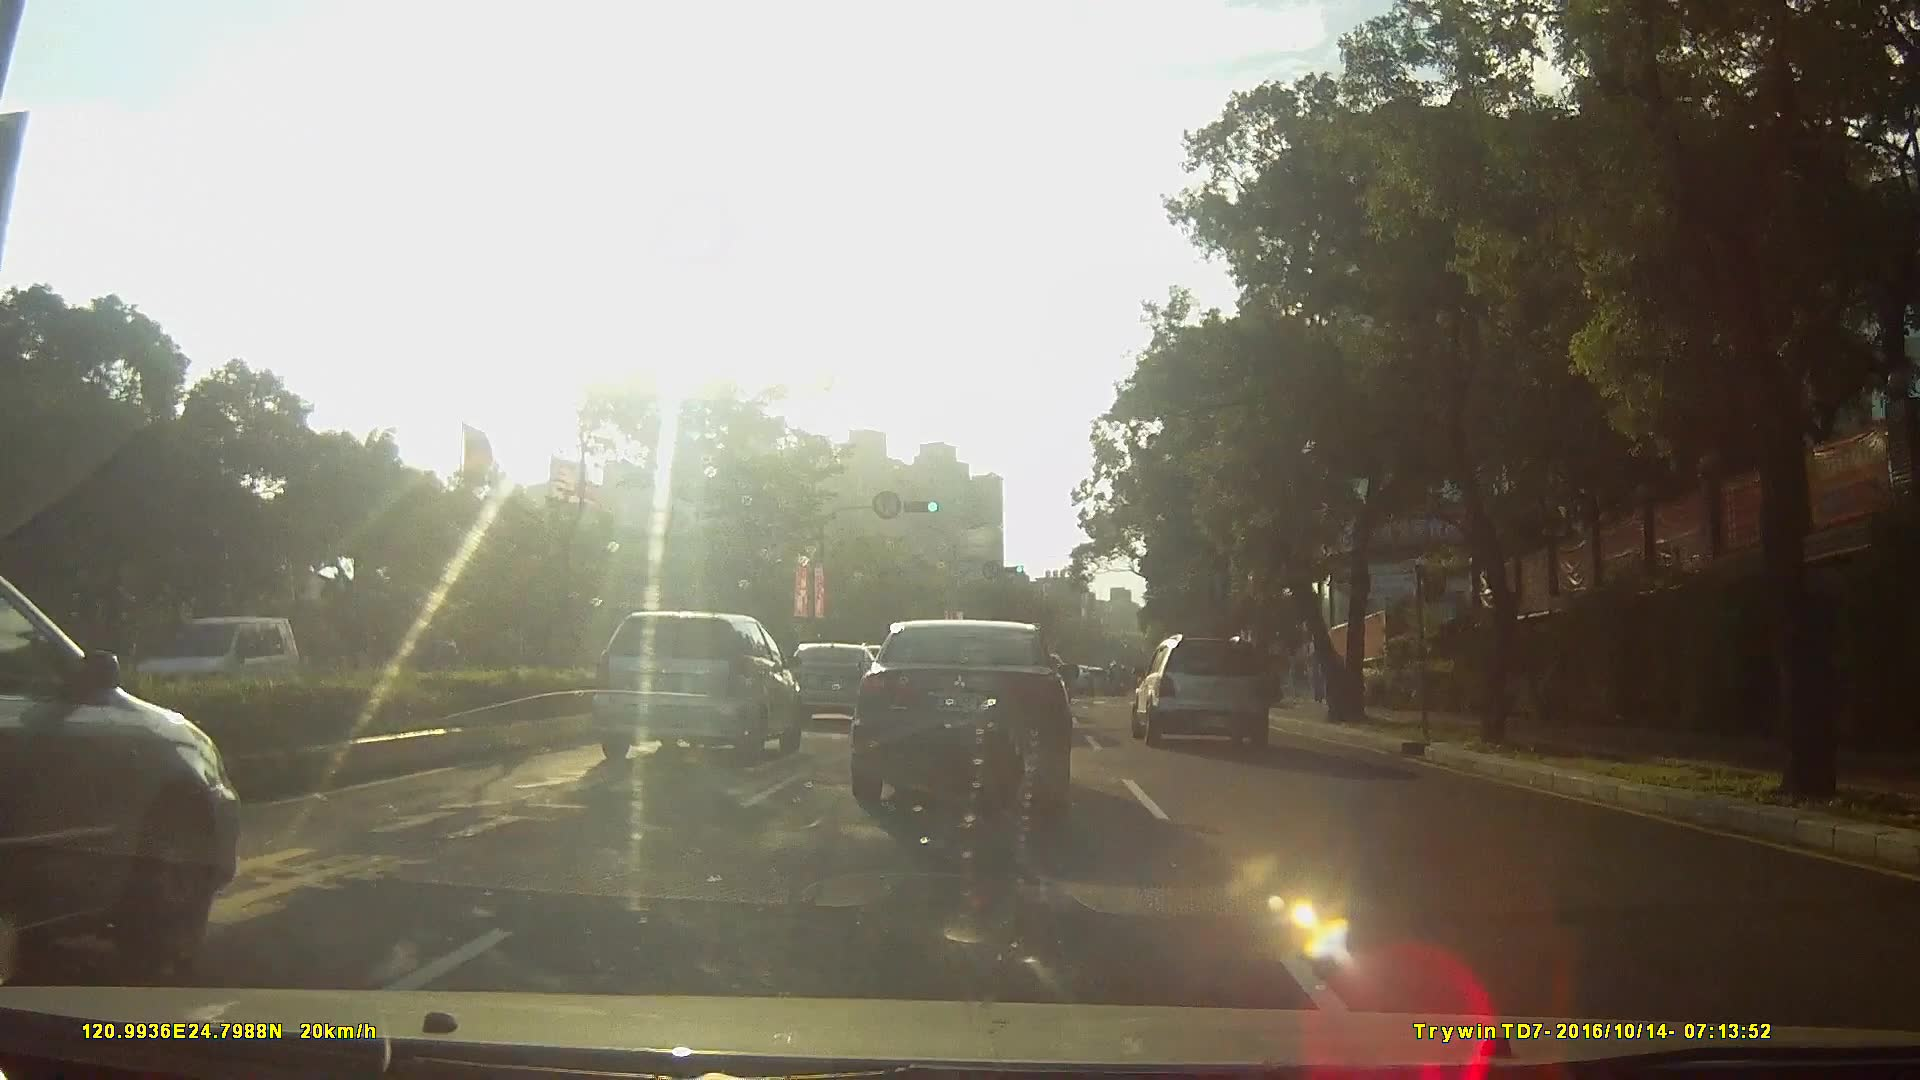vehicle: (1, 556, 266, 993), (851, 613, 1076, 815), (583, 607, 799, 760), (1131, 626, 1286, 742), (87, 608, 253, 712), (777, 640, 891, 723), (1073, 659, 1108, 690)
